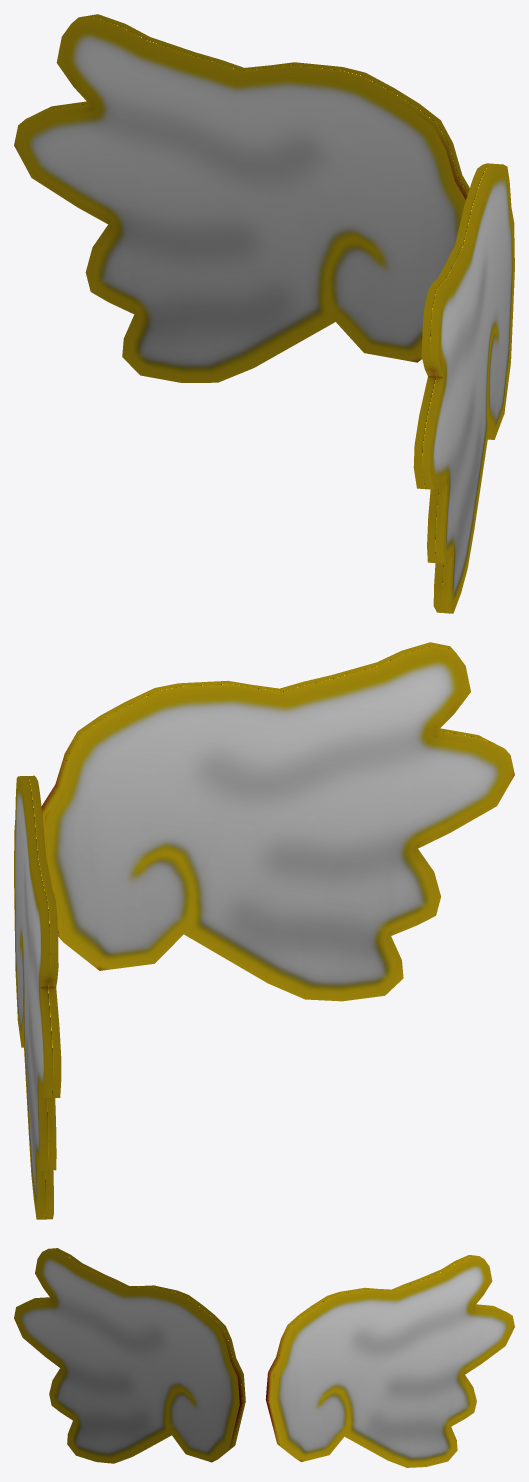
File: wings.fbx
The picture shows the model from 3 angles, top to bottom: view 1: azimuth 30°, elevation 25°; view 2: azimuth 150°, elevation 25°; view 3: azimuth 270°, elevation 25°; orthographic projection. The views are drawn at different scales.
Visible parts, largest first — view 1: polySurface1, polySurface2; view 2: polySurface2, polySurface1; view 3: polySurface1, polySurface2.
Boxes of the visible parts, bbox=[...] form: polySurface1: bbox=[14, 14, 469, 382]; polySurface2: bbox=[413, 163, 514, 613]; polySurface2: bbox=[41, 642, 514, 1001]; polySurface1: bbox=[14, 775, 61, 1219]; polySurface1: bbox=[265, 1255, 514, 1467]; polySurface2: bbox=[14, 1248, 245, 1463].
Size of the model in its own units: 2.57 by 2.88 by 6.67.
